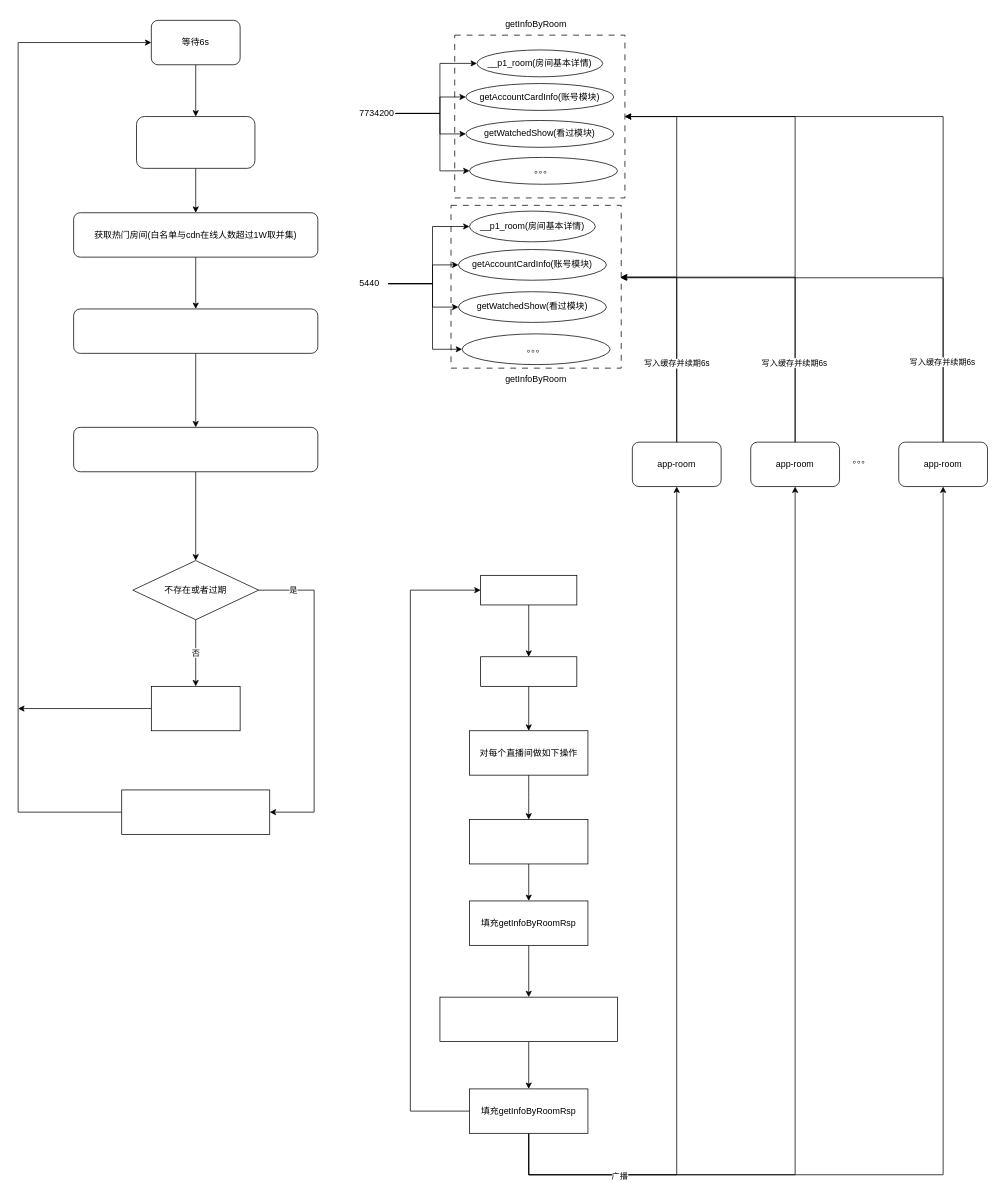
The diagram is 1000 pixels wide and 1194 high, and some of its shapes have lost their labels. The centre of each missing label's shape, as x and y in pixels:
"串行遍历每个热门房间执行如下操作" belongs at (x=195, y=330).
"从缓存中获取该直播间信息" belongs at (x=195, y=449).
"创建一个异步协程" belongs at (x=195, y=142).
"并发调用下游获取直播间可缓存模块内容" belongs at (x=528, y=1019).
"并调用下游获取可缓存模块内容" belongs at (x=195, y=811).
"等待2s" belongs at (x=528, y=590).
"获取所有热门直播间" belongs at (x=528, y=671).
"获取该直播间基本房间信息" belongs at (x=528, y=841).
"跳过什么也不做" belongs at (x=195, y=708).
